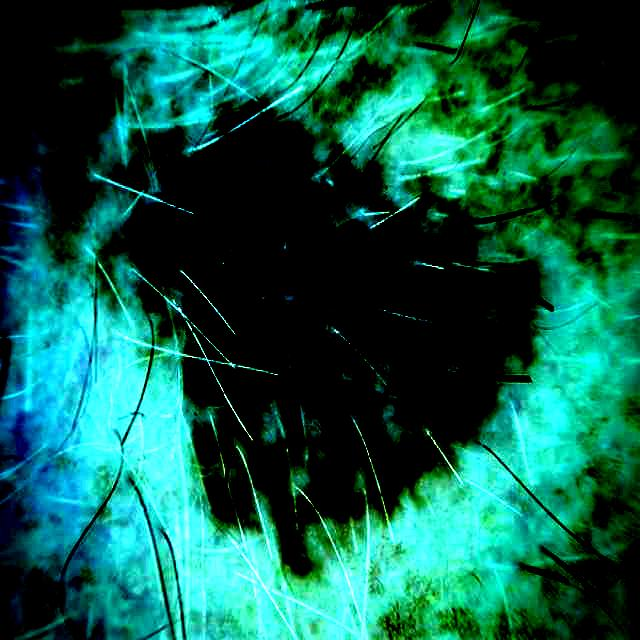BKL: (131, 104, 535, 558)
